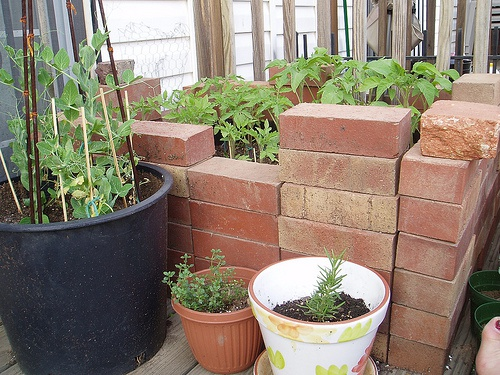flowerpot: (3, 155, 174, 375), (251, 254, 388, 375), (171, 267, 270, 375)
